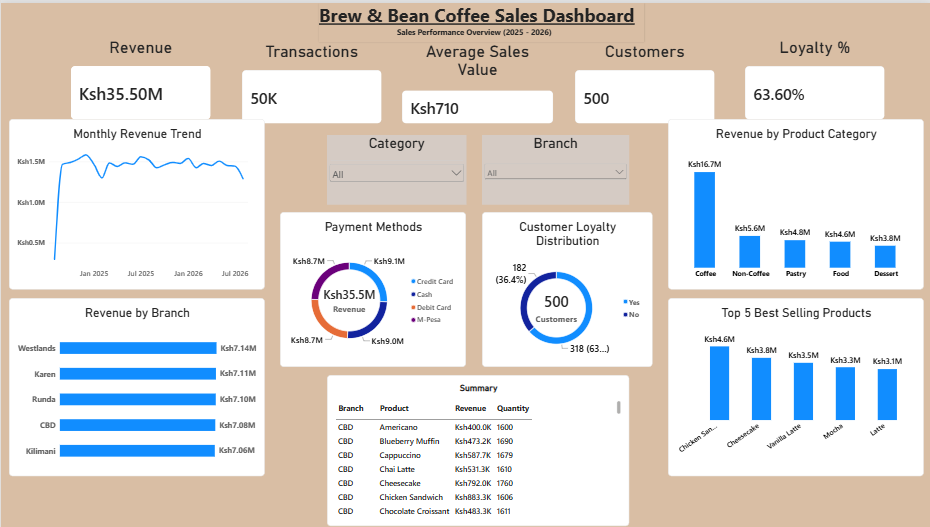

This screenshot's page, from the dashboard's own definition file:
{"tool":"powerbi","page":{"name":"Page 1","canvas":[1920,1080],"ordinal":0},"visuals":[{"type":"cardVisual","title":"Customers","fields":{"Data":["Measures Table.Total Customers"]},"box":[1184,80,288,168],"z":0},{"type":"cardVisual","title":"Transactions","fields":{"Data":["Measures Table.Total Transaction"]},"box":[498,80,288,168],"z":1000},{"type":"textbox","box":[656,0,672,80],"z":2000},{"type":"cardVisual","title":"Revenue","fields":{"Data":["Measures Table.Revenue"]},"box":[144,72,288,168],"z":3000},{"type":"cardVisual","title":"Loyalty %","fields":{"Data":["Measures Table.Loyalty %"]},"box":[1536,72,288,168],"z":4000},{"type":"clusteredColumnChart","title":"Revenue by Product Category","fields":{"Category":["products_clean.Category"],"Y":["Measures Table.Revenue"]},"box":[1376,240,528,352],"z":5000},{"type":"lineChart","title":"Monthly Revenue Trend","fields":{"Category":["transactions_clean.Transaction_Date.Variation.Date Hierarchy.Year","transactions_clean.Transaction_Date.Variation.Date Hierarchy.Month"],"Y":["Measures Table.Revenue"]},"box":[16,240,528,352],"z":6000},{"type":"clusteredBarChart","title":"Revenue by Branch","fields":{"Category":["branches_clean.Branch_Name"],"Y":["Measures Table.Revenue"]},"box":[16,608,528,368],"z":7000},{"type":"clusteredColumnChart","title":"Top 5 Best Selling Products","fields":{"Category":["products_clean.Product_Name"],"Y":["Measures Table.Revenue"]},"box":[1376,608,528,368],"z":8000},{"type":"tableEx","title":"Summary","fields":{"Values":["branches_clean.Branch_Name","products_clean.Product_Name","Measures Table.Revenue","Sum(transactions_clean.Quantity)"]},"box":[672,768,624,312],"z":9000},{"type":"slicer","title":"Category","fields":{"Values":["products_clean.Category"]},"box":[672,272,288,144],"z":10000},{"type":"slicer","title":"Branch","fields":{"Values":["branches_clean.Branch_Name"]},"box":[992,272,304,144],"z":11000},{"type":"donutChart","title":"Payment Methods","fields":{"Category":["transactions_clean.Payment_Method"],"Y":["Measures Table.Revenue"]},"box":[576,432,384,320],"z":12000},{"type":"donutChart","title":"Customer Loyalty Distribution","fields":{"Category":["customers_clean.Loyalty_Member"],"Y":["Measures Table.Customers"]},"box":[992,432,352,320],"z":13000},{"type":"cardVisual","title":"Average Sales Value","fields":{"Data":["Measures Table.Average Sale Value"]},"box":[828,80,312,168],"z":13001}]}

Visuals, with their boxes in screenshot pixels (x1, y1, x2, y2), scaled from the page's 1920x1080 canvas onto the 930x527 screenshot:
"Customers" cardVisual: left=574, top=39, right=713, bottom=121
"Transactions" cardVisual: left=241, top=39, right=381, bottom=121
textbox: left=318, top=0, right=643, bottom=39
"Revenue" cardVisual: left=70, top=35, right=209, bottom=117
"Loyalty %" cardVisual: left=744, top=35, right=884, bottom=117
"Revenue by Product Category" clusteredColumnChart: left=666, top=117, right=922, bottom=289
"Monthly Revenue Trend" lineChart: left=8, top=117, right=264, bottom=289
"Revenue by Branch" clusteredBarChart: left=8, top=297, right=264, bottom=476
"Top 5 Best Selling Products" clusteredColumnChart: left=666, top=297, right=922, bottom=476
"Summary" tableEx: left=326, top=375, right=628, bottom=526
"Category" slicer: left=326, top=133, right=465, bottom=203
"Branch" slicer: left=480, top=133, right=628, bottom=203
"Payment Methods" donutChart: left=279, top=211, right=465, bottom=367
"Customer Loyalty Distribution" donutChart: left=480, top=211, right=651, bottom=367
"Average Sales Value" cardVisual: left=401, top=39, right=552, bottom=121
